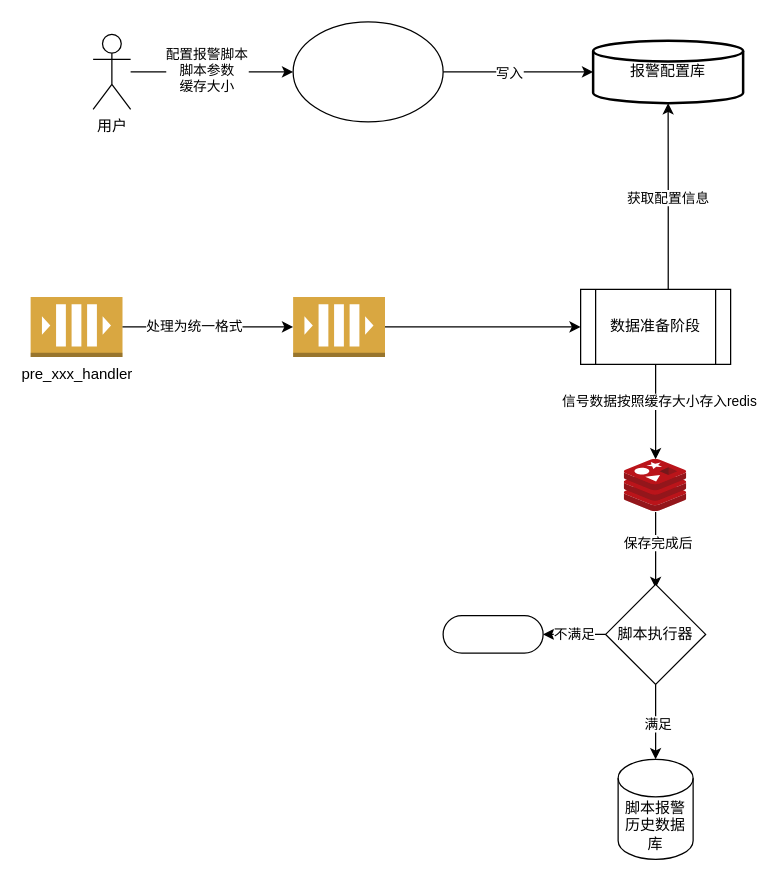
The diagram is 779 pixels wide and 881 high, and some of its shapes have lost their labels. The box of each missing label's shape, as (x1, y1, x2, y2) in pixels:
waring_delay_handler: (292, 296, 385, 357)
管理端程序: (292, 21, 443, 122)
结束: (442, 614, 543, 653)
